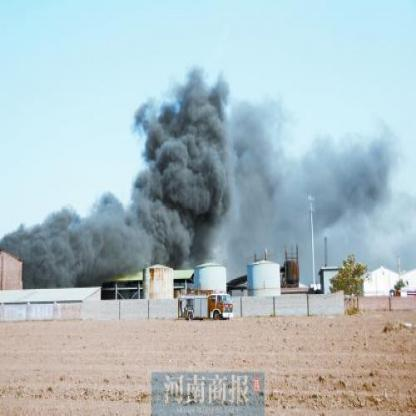smoke: (142, 110, 227, 190), (22, 216, 94, 286), (304, 150, 377, 214), (229, 127, 269, 234), (93, 198, 143, 263), (145, 195, 190, 256), (174, 68, 228, 108), (192, 193, 223, 252)
